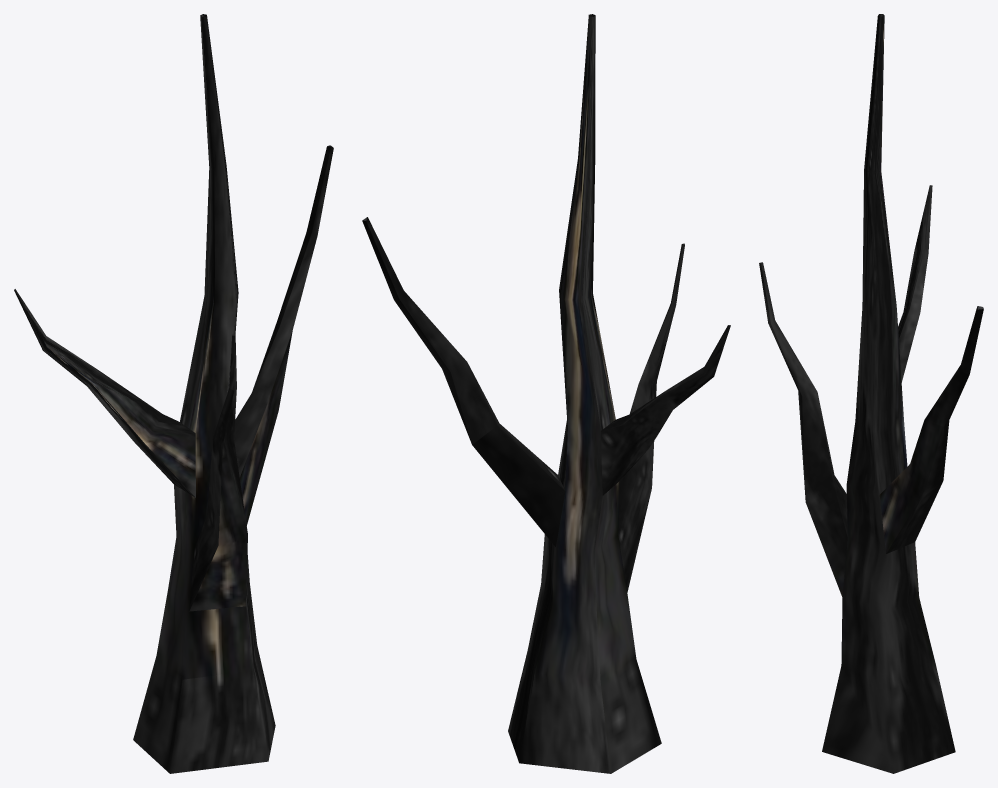
Rendered from pir_m_prp_vol_treeDead_e.fbx.
3 views of the same model, side by side, from view 1: azimuth 30°, elevation 25°; view 2: azimuth 150°, elevation 25°; view 3: azimuth 270°, elevation 25° (orthographic).
Visible parts, largest first — view 1: lod_high; view 2: lod_high; view 3: lod_high.
Part boxes in pixels (x1=…): lod_high: x1=14, y1=14, x2=333, y2=773; lod_high: x1=362, y1=14, x2=730, y2=773; lod_high: x1=759, y1=14, x2=983, y2=773.
Size of the model in its own units: 1261 by 2572 by 727.
1 material, 1 textured.
